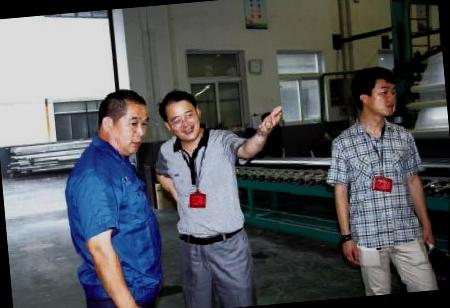no_helmet: (93, 86, 152, 159), (352, 63, 401, 124), (157, 86, 206, 146)
